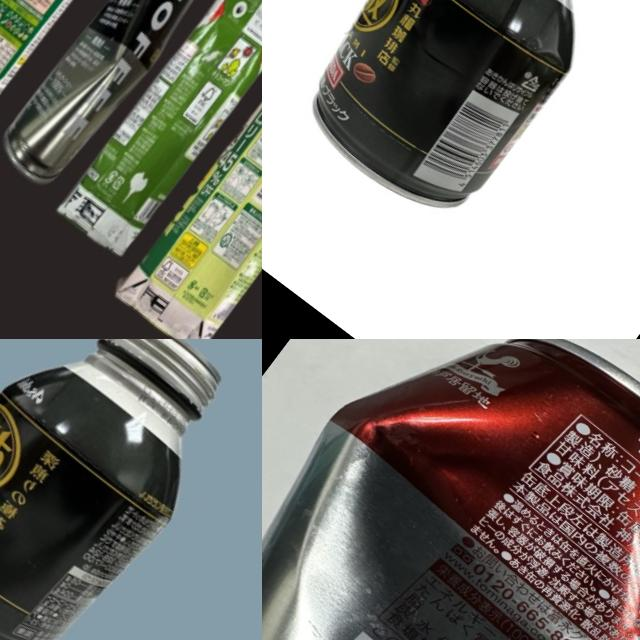Aluminium Foil: (51, 0, 262, 264), (108, 12, 262, 339), (0, 0, 149, 159)
Can: (262, 339, 640, 640), (275, 0, 640, 234), (0, 339, 262, 640), (0, 0, 222, 192)
